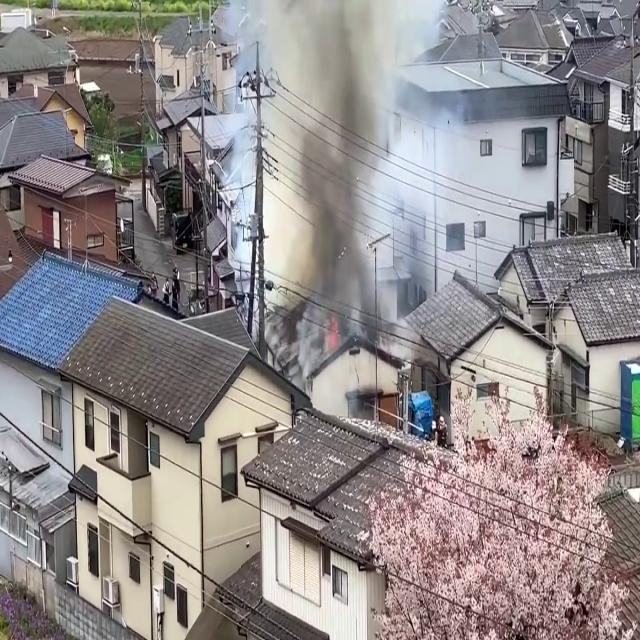Smoke: (277, 0, 417, 372)
